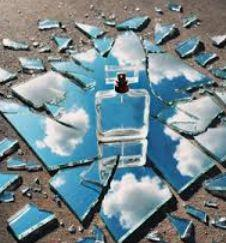glass: (0, 0, 225, 243)
